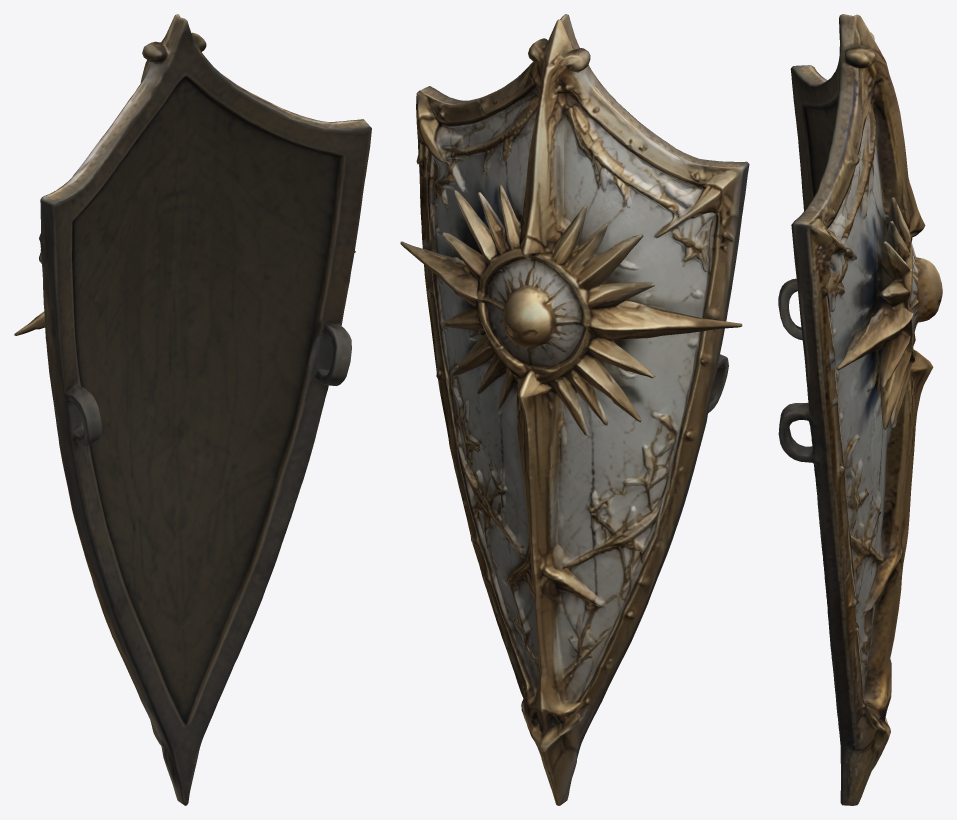
The model's file is kite_dawnstar.glb.
The picture shows the model from 3 angles, left to right: view 1: azimuth 30°, elevation 25°; view 2: azimuth 150°, elevation 25°; view 3: azimuth 270°, elevation 25°; orthographic projection.
Visible parts, largest first — view 1: kite_dawnstar; view 2: kite_dawnstar; view 3: kite_dawnstar.
Boxes of the visible parts, bbox=[...] form: kite_dawnstar: bbox=[14, 14, 371, 805]; kite_dawnstar: bbox=[400, 14, 749, 805]; kite_dawnstar: bbox=[778, 14, 942, 805].
Bounding box in the file's own units: 0.3873 × 0.8521 × 0.1605.
Materials: 1 (1 with a texture image).
